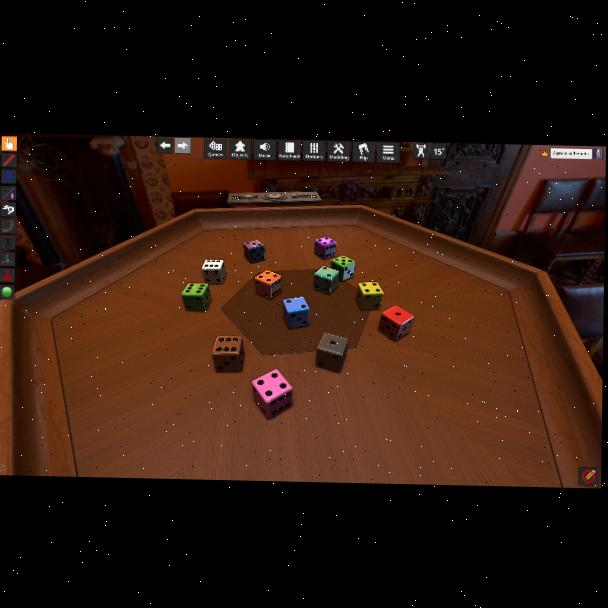d6: (251, 368, 294, 418), (315, 333, 347, 374), (212, 334, 244, 372), (379, 306, 410, 342), (282, 296, 309, 329), (181, 283, 210, 312), (254, 270, 282, 300), (356, 280, 382, 310), (314, 266, 340, 295), (331, 255, 355, 282), (200, 260, 224, 286), (243, 239, 266, 264), (315, 237, 336, 260)
